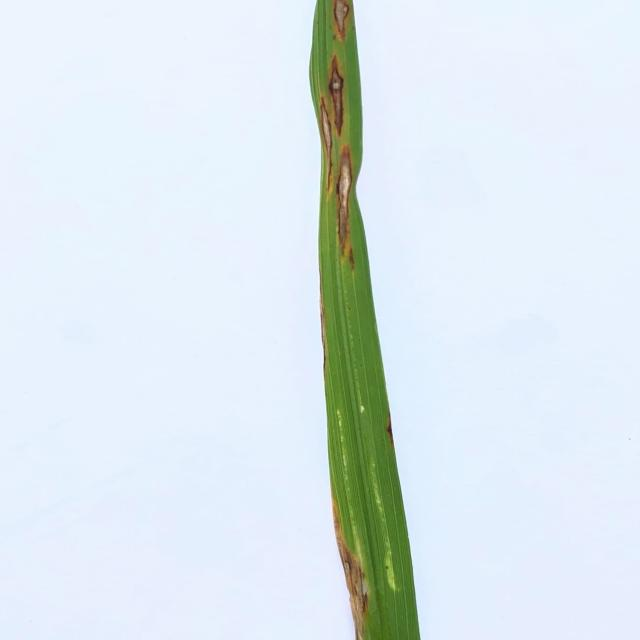leaf blast: (340, 500, 372, 640), (330, 147, 360, 261), (323, 56, 350, 136), (314, 101, 335, 154), (330, 0, 353, 41)
